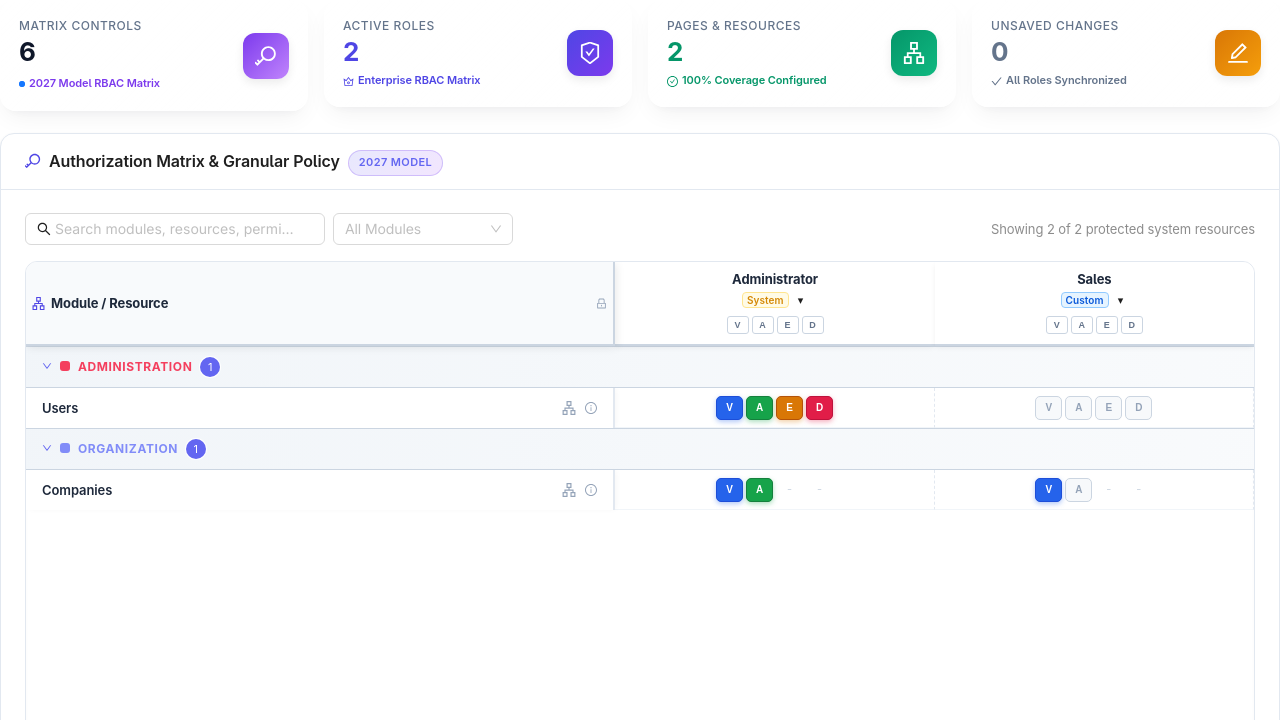
Test: PermissionMatrix (2027 Model) › discards unsaved changes when clicking Discard button
Expected: the text "Users" is shown, [42,398,78,418]
What coordinates should you click on to do the following:
click the button "V" below "Custom"
I would click on:
 (1057, 325)
Its box is [1046,316,1068,334].
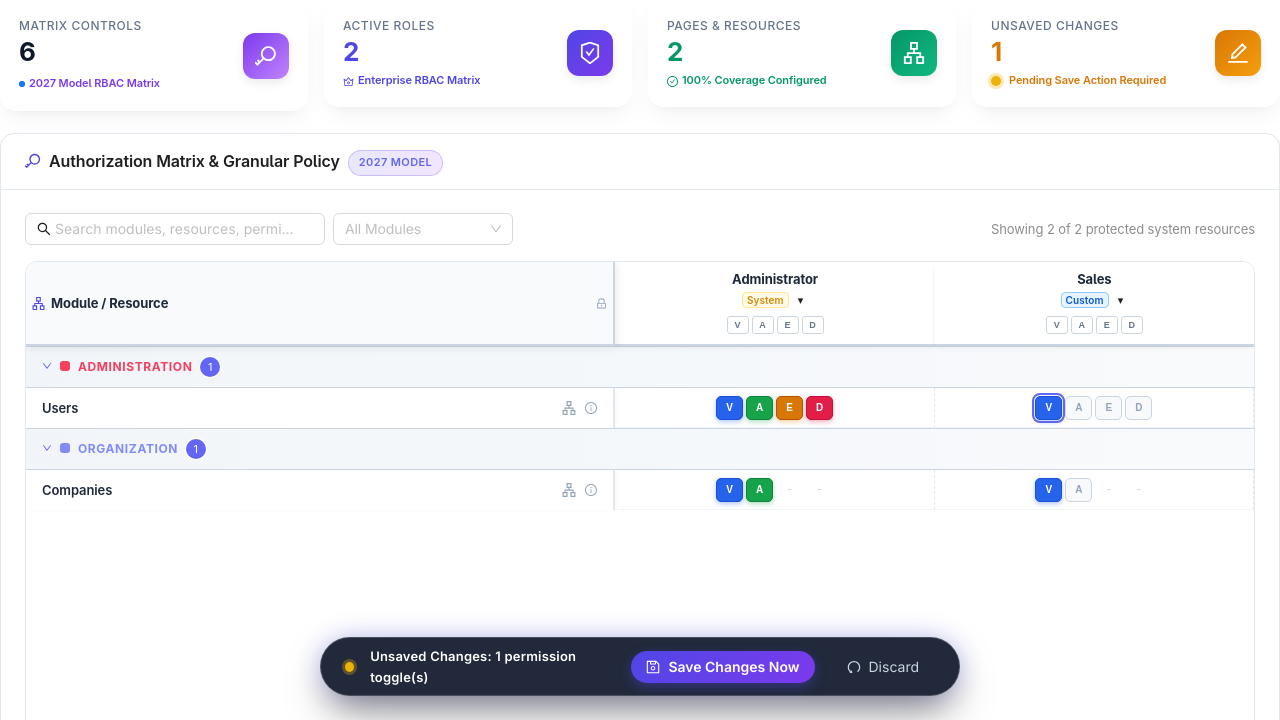
Now the element with test id "matrix-floating-save-dock" is shown, box [320,637,960,696]
# Click Discard
What coordinates should you click on to do the following:
click the button "Discard"
I would click on:
 (883, 667)
Its box is [830,651,935,683].
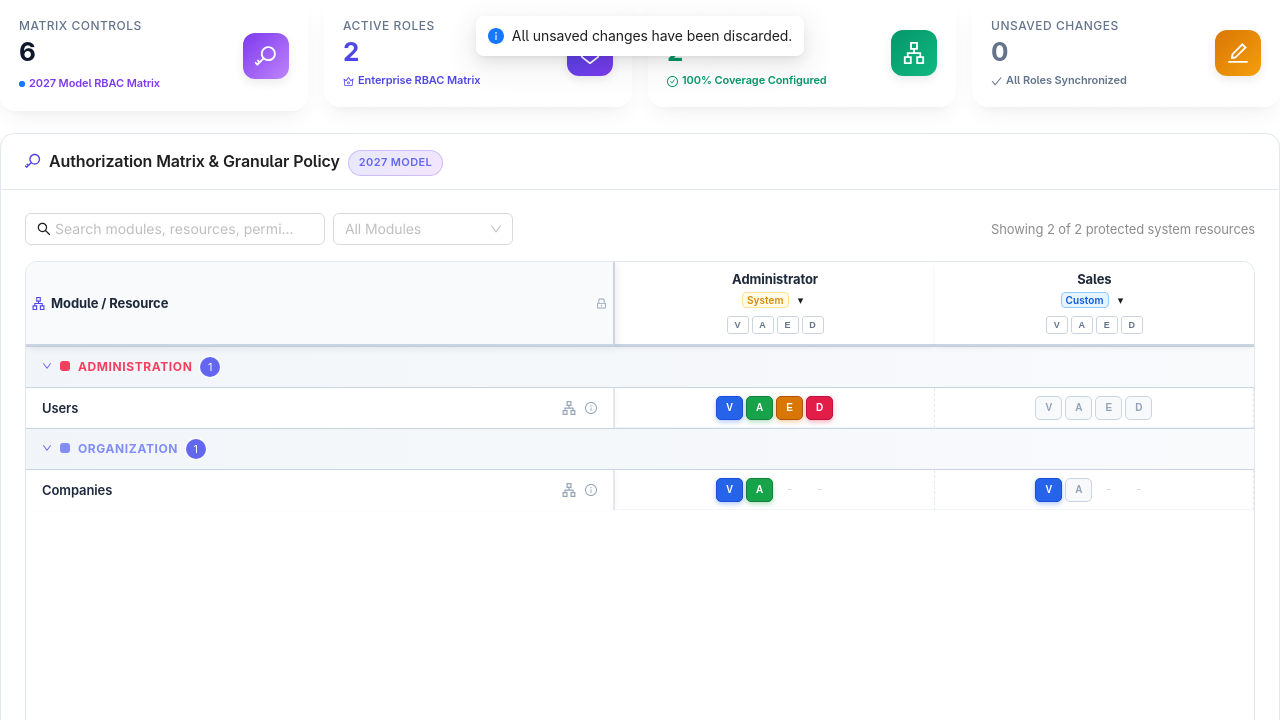
Now the element with test id "matrix-floating-save-dock" is gone
